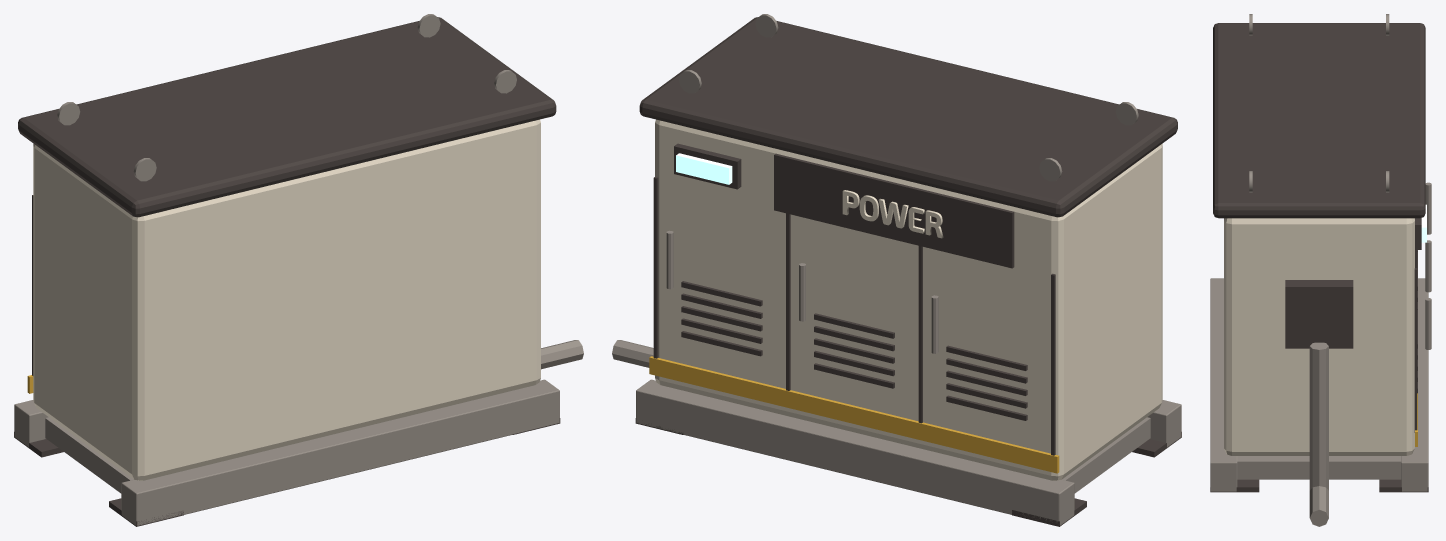
The model's file is prop_battery_bank.glb.
3 views of the same model, side by side, from view 1: azimuth 30°, elevation 25°; view 2: azimuth 150°, elevation 25°; view 3: azimuth 270°, elevation 25° (orthographic). The views are drawn at different scales.
Parts seen in each view (by area): view 1: cabinet-col, conduit_run; view 2: cabinet-col, sign, hazard_band, power_label, power_light, power_light_housing, door_seam3, door_seam0, door_seam2, door_seam1, conduit_run; view 3: cabinet-col, gland_box, conduit, conduit_run, door_seam3, handle1, handle2, handle0.
Part boxes in pixels (x1,y1,x2,y2): cabinet-col: [14, 17, 560, 526]; conduit_run: [541, 340, 583, 369]; cabinet-col: [635, 17, 1181, 526]; sign: [774, 153, 1014, 268]; hazard_band: [649, 356, 1059, 473]; power_label: [842, 190, 943, 238]; power_light: [676, 153, 732, 184]; power_light_housing: [674, 143, 741, 189]; door_seam3: [653, 176, 658, 358]; door_seam0: [1051, 273, 1055, 455]; door_seam2: [786, 213, 790, 390]; door_seam1: [918, 246, 922, 423]; conduit_run: [612, 340, 653, 367]; cabinet-col: [1210, 23, 1428, 492]; gland_box: [1285, 280, 1353, 348]; conduit: [1309, 342, 1328, 490]; conduit_run: [1309, 486, 1328, 526]; door_seam3: [1414, 268, 1417, 432]; handle1: [1425, 240, 1431, 292]; handle2: [1425, 298, 1431, 349]; handle0: [1425, 182, 1431, 234].
Bounding box in the file's own units: 1.9 × 1.24 × 0.812.
